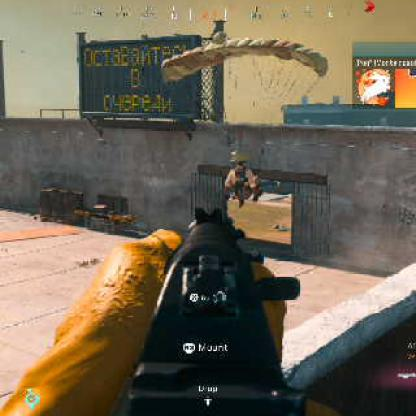enemy: (221, 160, 263, 207)
